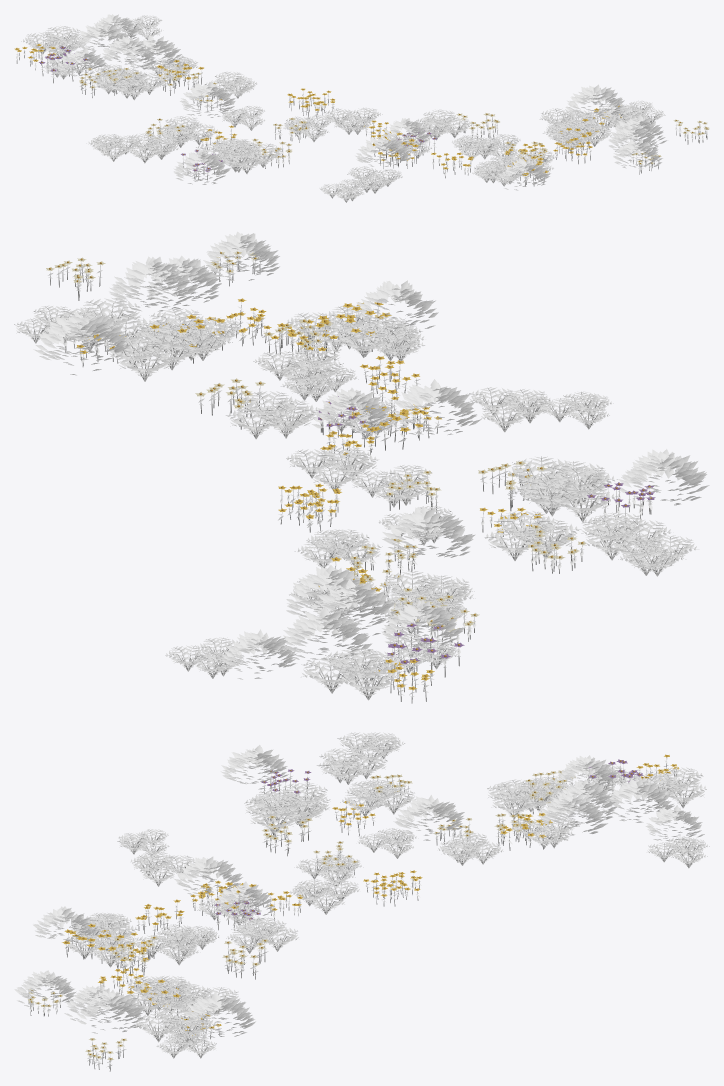
Rendered from SM_DF_Explorer_0_0_Flora.fbx.
3 renders of one model, top to bottom at view 1: azimuth 30°, elevation 25°; view 2: azimuth 150°, elevation 25°; view 3: azimuth 270°, elevation 25°, orthographic. The views are drawn at different scales.
Parts seen in each view (by area): view 1: SM_DF_Explorer_0_0_Flora; view 2: SM_DF_Explorer_0_0_Flora; view 3: SM_DF_Explorer_0_0_Flora.
Part boxes in pixels (x1=…): SM_DF_Explorer_0_0_Flora: x1=14, y1=14, x2=709, y2=202; SM_DF_Explorer_0_0_Flora: x1=14, y1=231, x2=709, y2=703; SM_DF_Explorer_0_0_Flora: x1=14, y1=732, x2=709, y2=1071.
Bounding box in the file's own units: 2103 × 2029 × 199.
